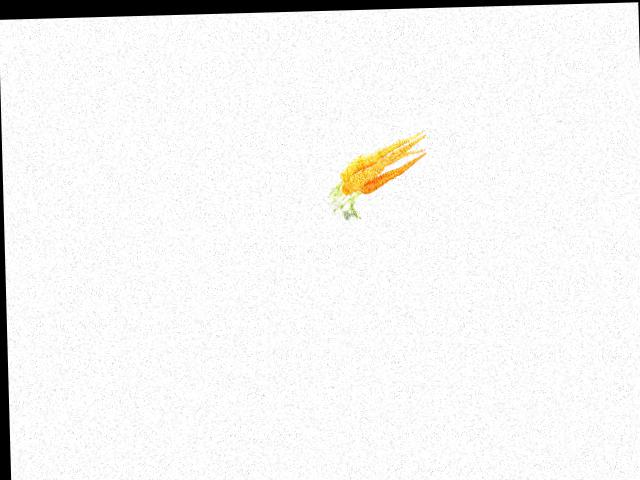carrot: (334, 128, 426, 182)
